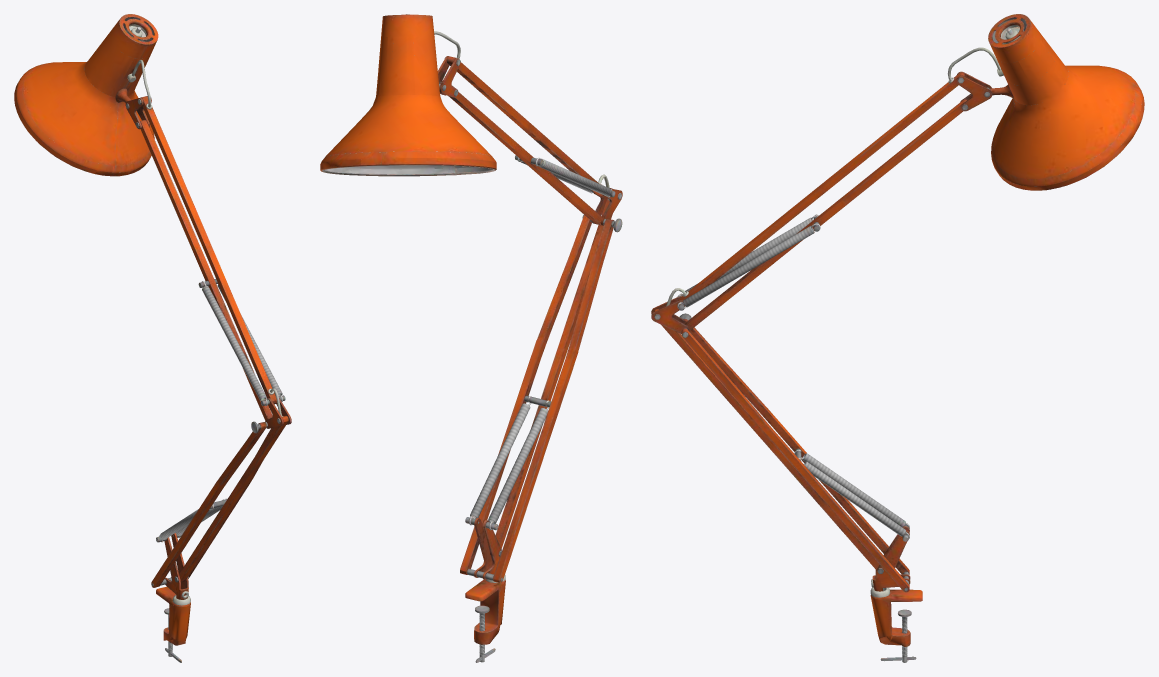
Rendered from desk_lamp_arm_01.glb.
The picture shows the model from 3 angles, left to right: view 1: azimuth 30°, elevation 25°; view 2: azimuth 150°, elevation 25°; view 3: azimuth 270°, elevation 25°; orthographic projection. The views are drawn at different scales.
Parts seen in each view (by area): view 1: desk_lamp_arm_01; view 2: desk_lamp_arm_01; view 3: desk_lamp_arm_01.
Boxes of the visible parts, x1,y1,x2,y2 form: desk_lamp_arm_01: (14,14,291,662); desk_lamp_arm_01: (320,14,622,662); desk_lamp_arm_01: (651,14,1144,662).
Size of the model in its own units: 0.2019 by 0.8926 by 0.6141.
2 materials, 2 textured.
